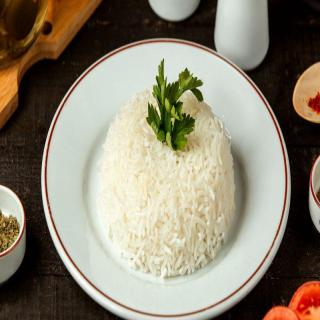Nasi: (97, 83, 238, 280)
